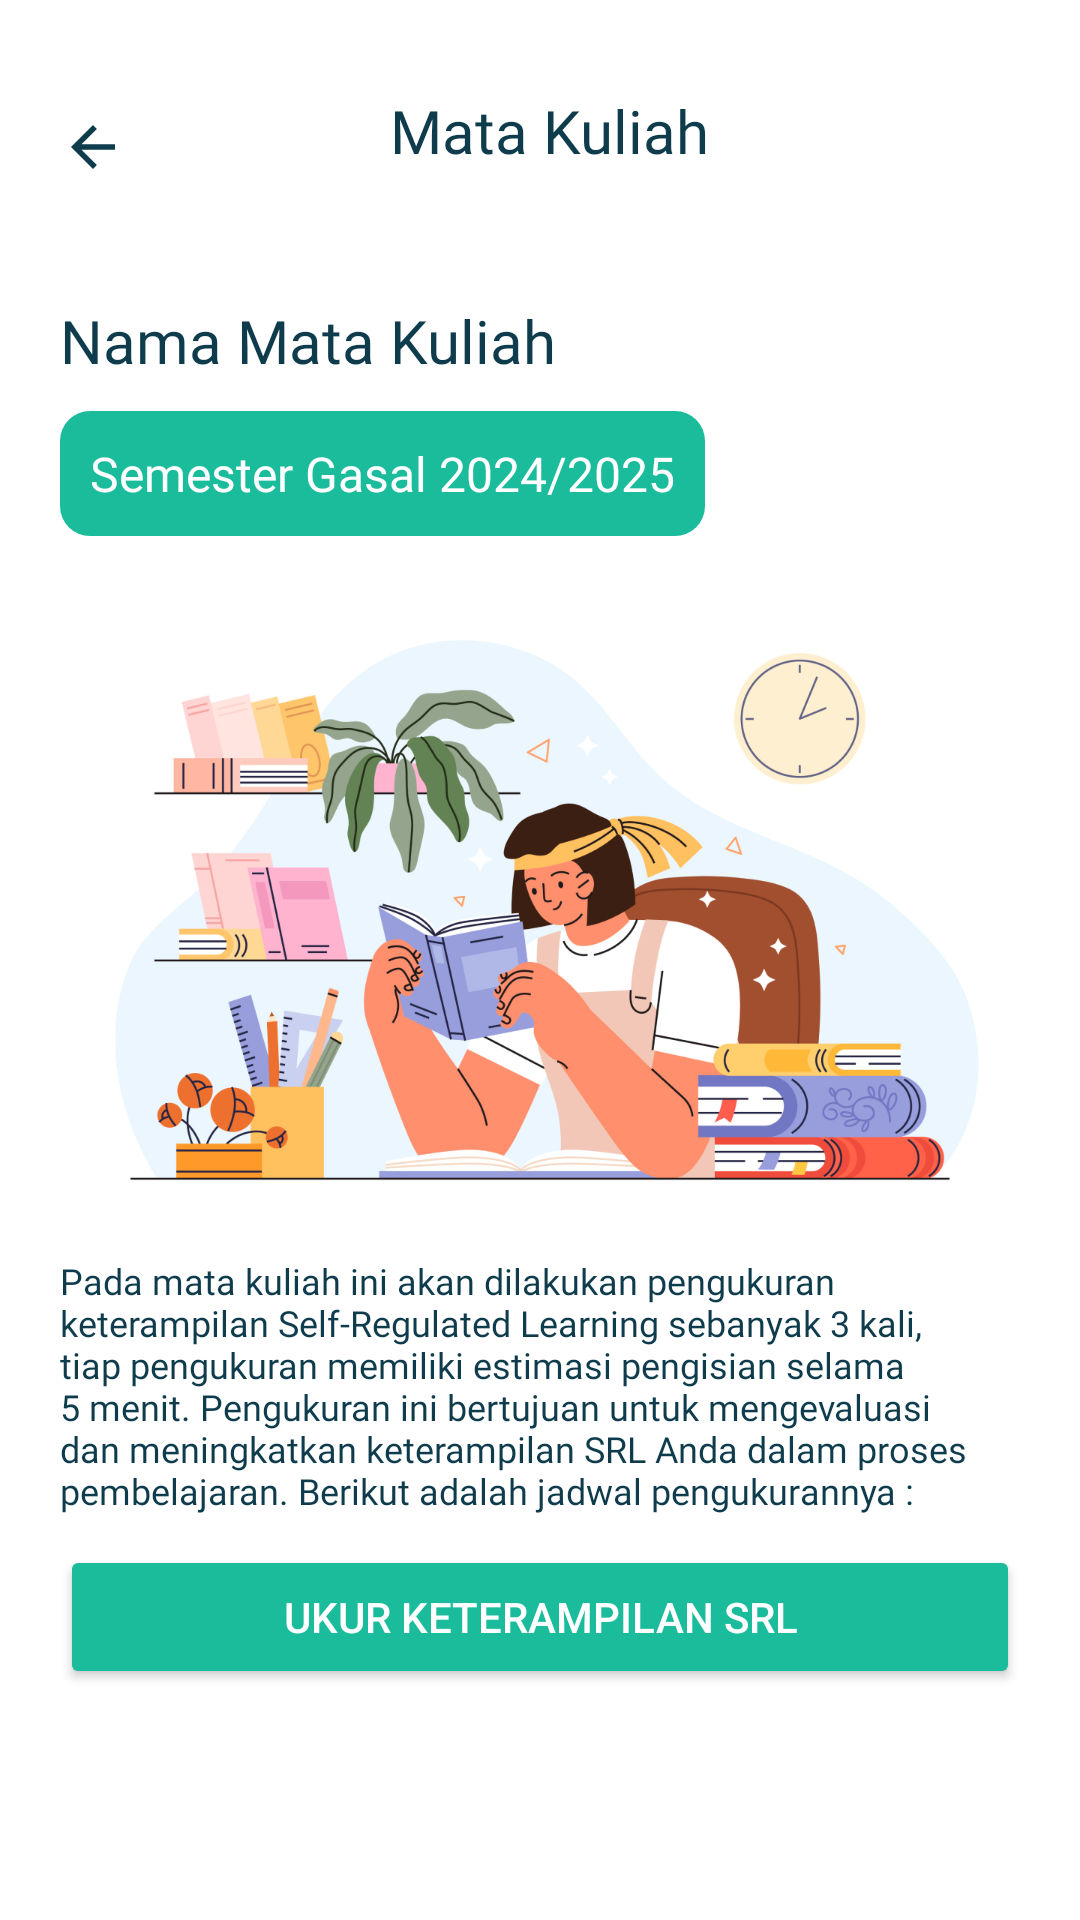

Icon bounding boxes for this 1080 × 1920 phone screenshot, format (x1, y1, x2, y2):
arrow back: (71, 125, 115, 169)
